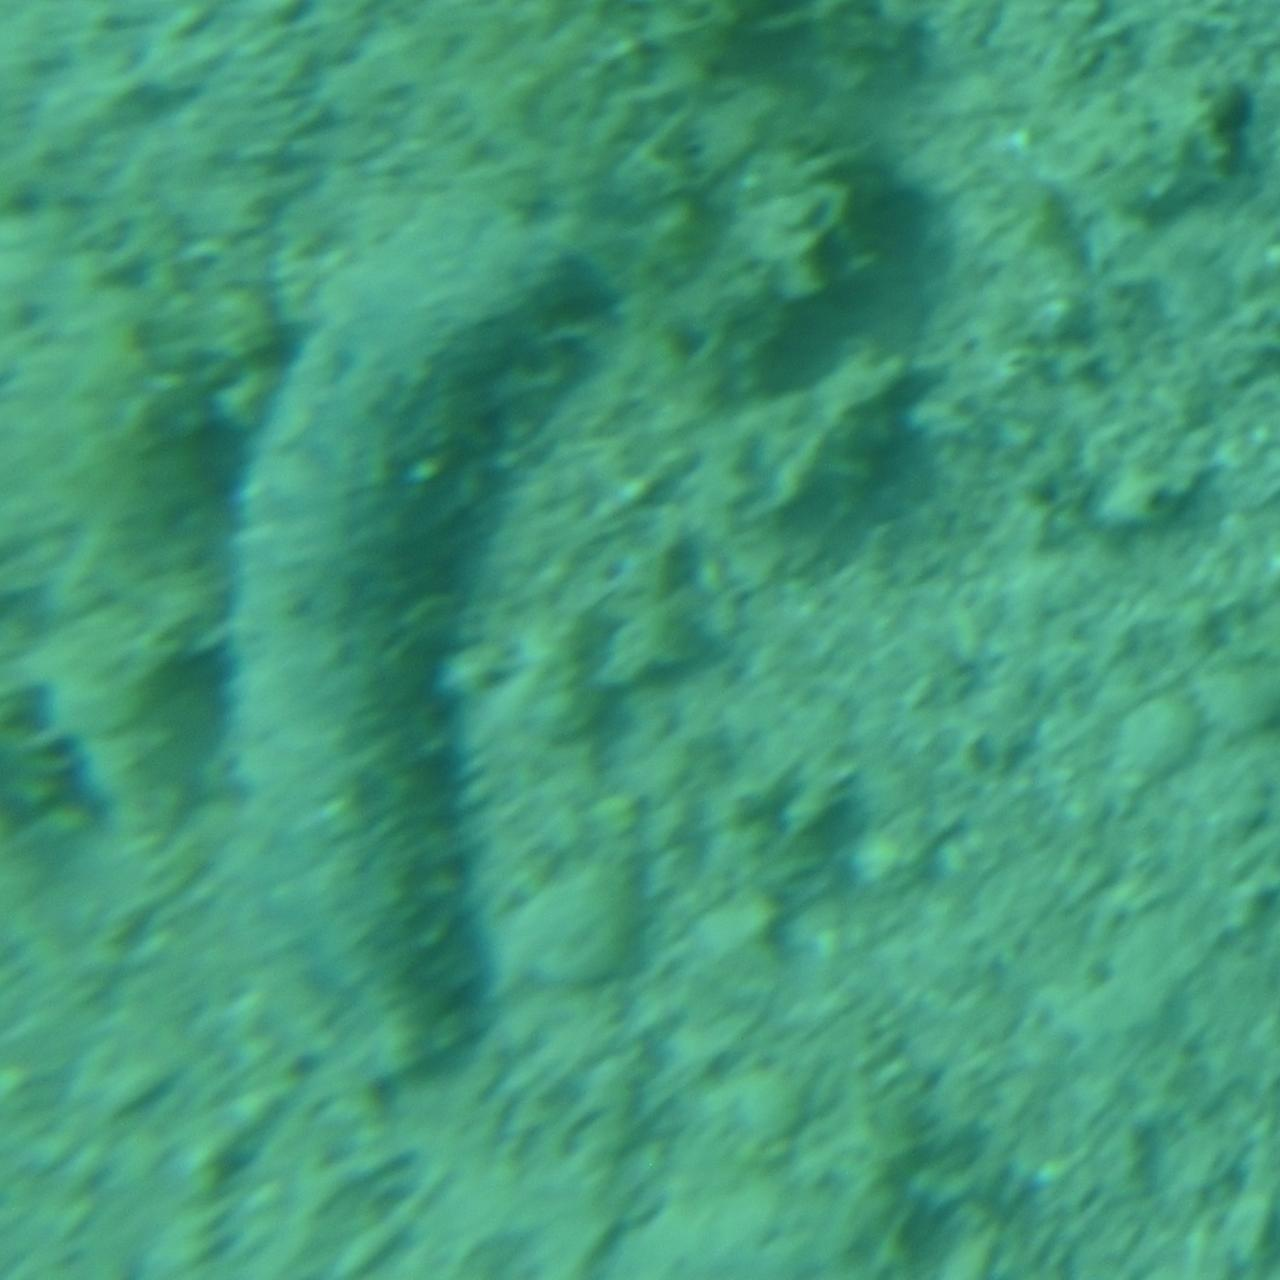Holothuria tubulosa: (198, 170, 613, 1110)
